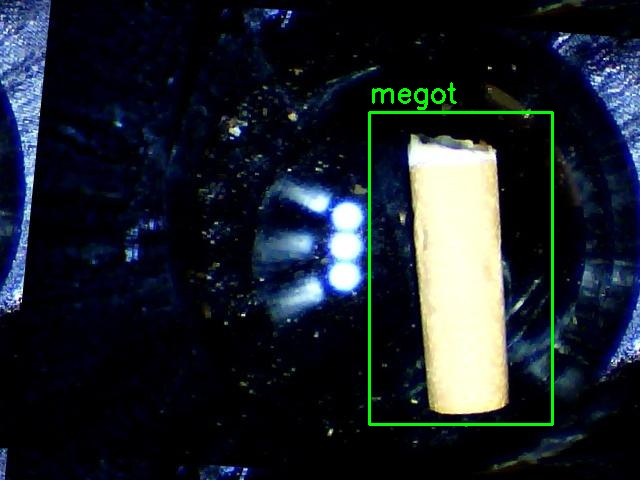megot: (369, 112, 552, 424)
